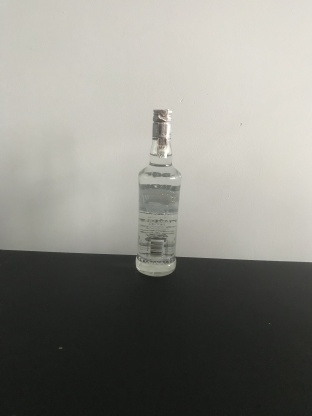nakretka: (150, 106, 173, 141)
